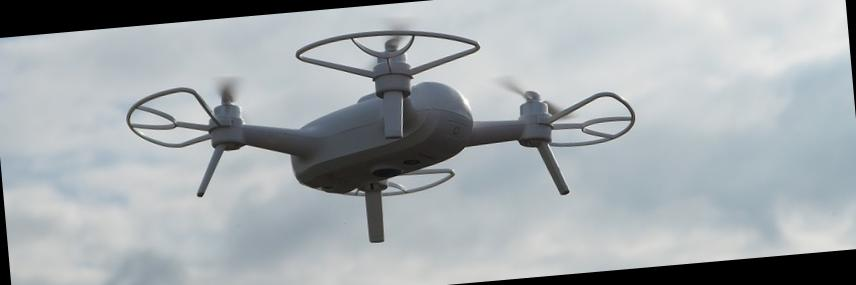drone: (115, 3, 642, 251)
